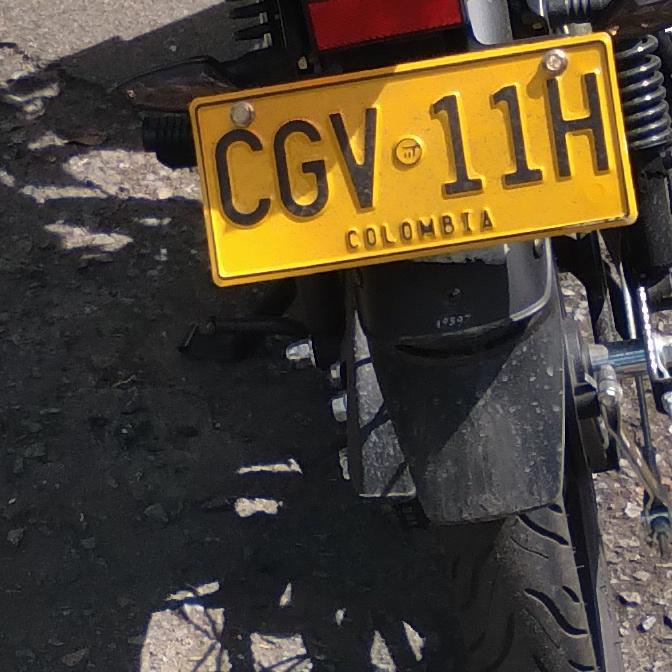plates: (188, 25, 639, 290)
